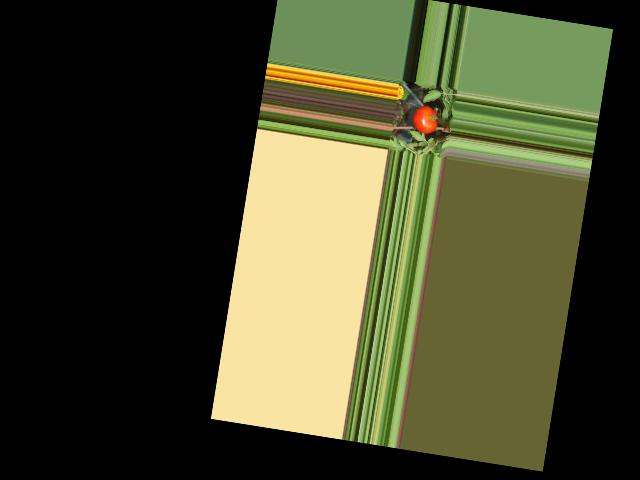tomato: (410, 104, 440, 136)
